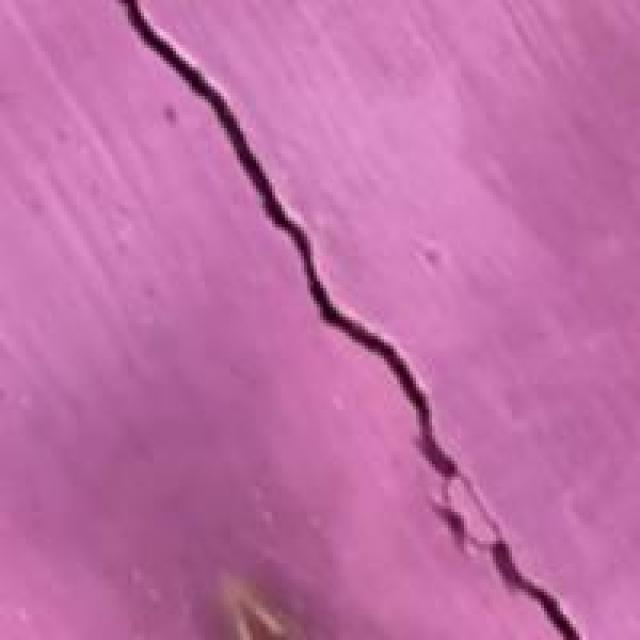crack: (122, 0, 582, 637)
